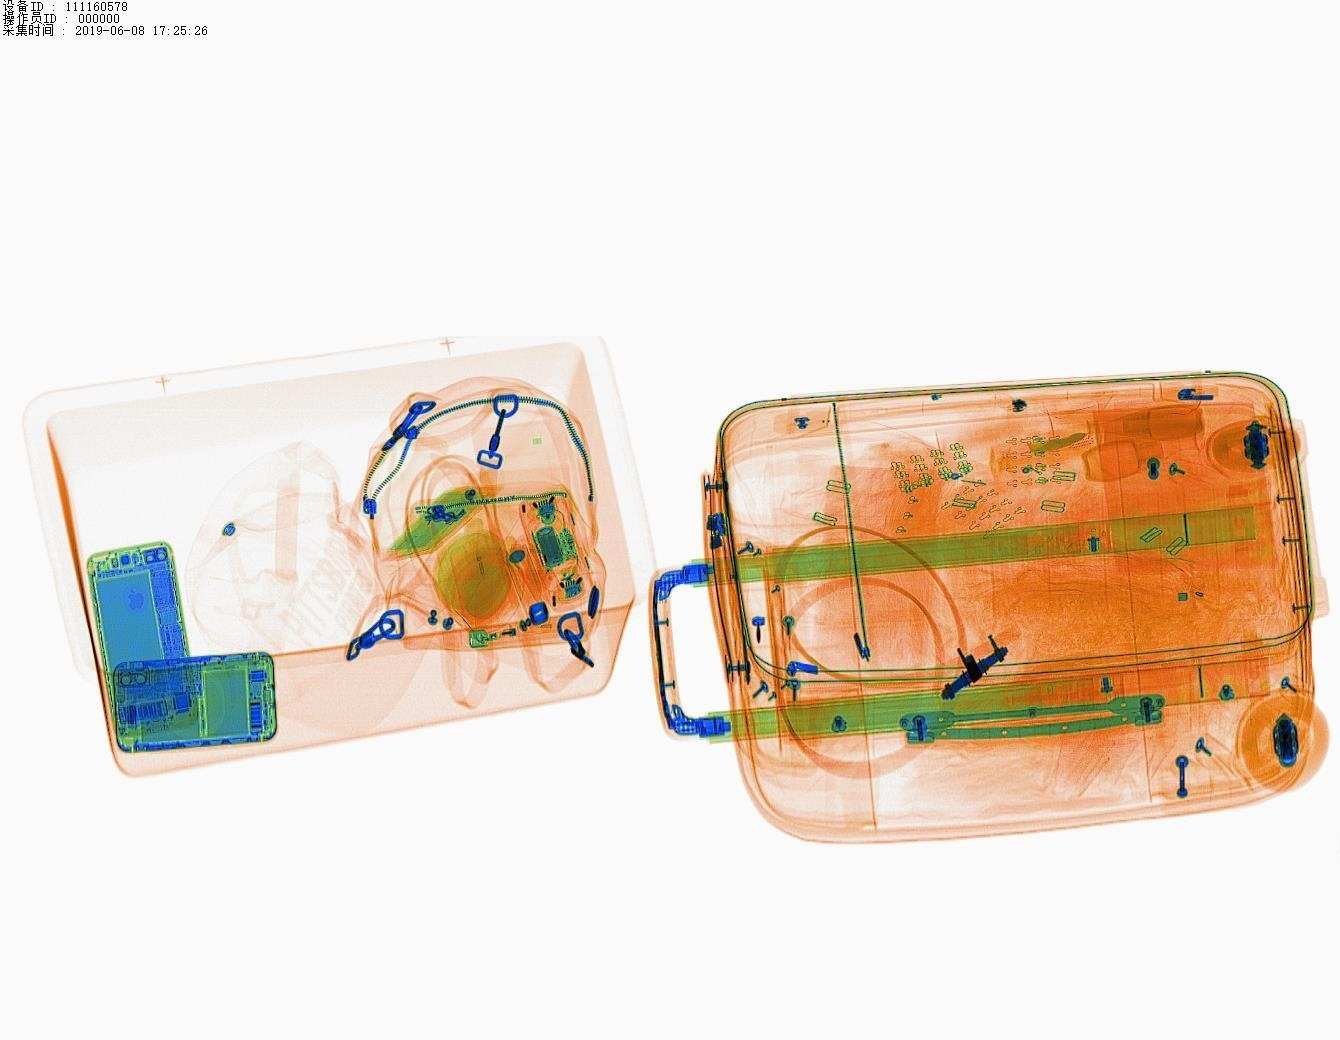NonmetallicFire: (455, 615, 588, 654)
